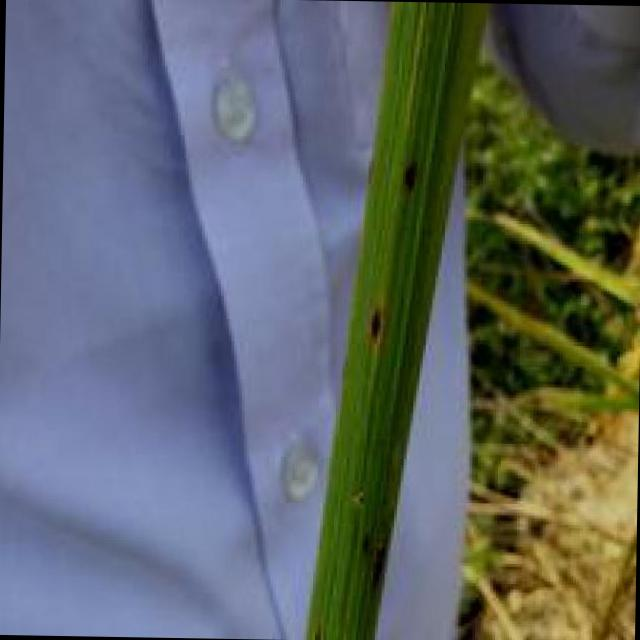Rice_Brownspot: (356, 515, 385, 587), (390, 143, 426, 200), (357, 286, 386, 352)
